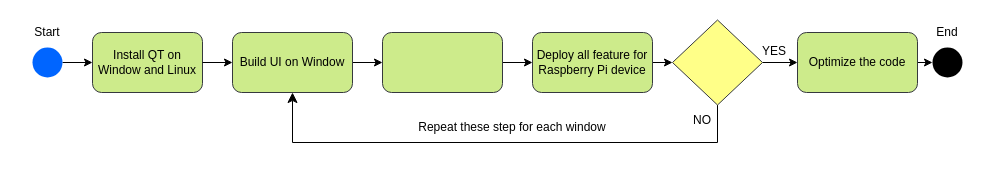
The diagram is 994 pixels wide and 170 high, and some of its shapes have lost their labels. The shapes that lost their labels are listed below. From the top down, each one's centre as x and y in pixels, then its label:
At point (442, 62): "Deploy the fake data on Window to test the UI".
At point (717, 62): "All the desired Windows work?".
